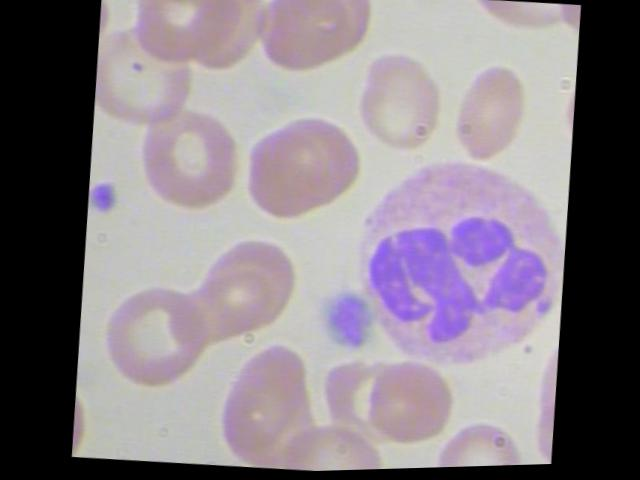Platelets: (310, 284, 375, 359), (84, 180, 124, 226)
Red Blood Cells: (236, 107, 360, 232), (129, 98, 248, 218), (88, 280, 207, 400), (351, 42, 449, 162), (433, 54, 531, 174), (249, 0, 374, 91), (356, 358, 455, 459), (271, 420, 384, 473), (427, 411, 524, 469)
White Blood Cells: (345, 142, 573, 401)
